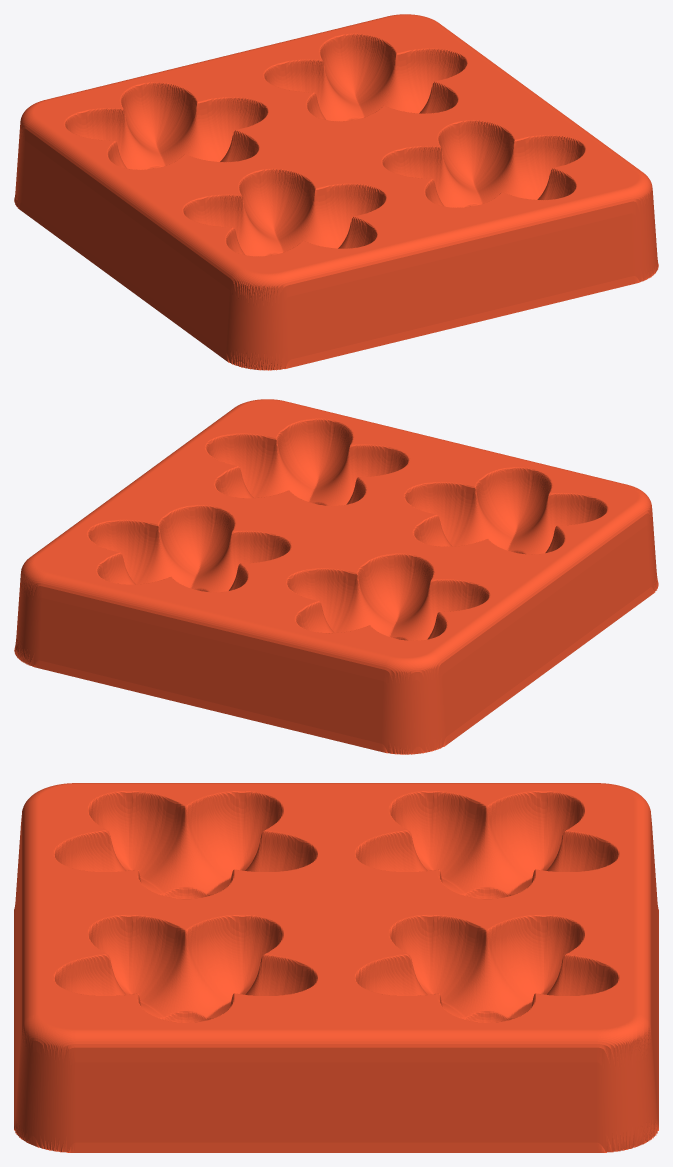
Rendered from mold.glb.
The picture shows the model from 3 angles, top to bottom: view 1: azimuth 30°, elevation 25°; view 2: azimuth 150°, elevation 25°; view 3: azimuth 270°, elevation 25°; orthographic projection. The views are drawn at different scales.
Parts seen in each view (by area): view 1: geometry_0; view 2: geometry_0; view 3: geometry_0.
Boxes of the visible parts, x1,y1,x2,y2 form: geometry_0: [14, 14, 658, 370]; geometry_0: [14, 399, 658, 754]; geometry_0: [14, 783, 658, 1152].
Bounding box in the file's own units: 0.0918 × 0.0182 × 0.0942.
